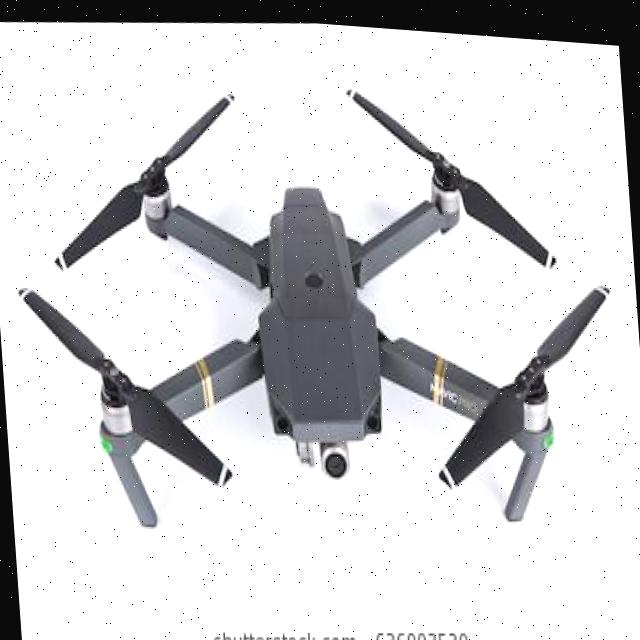drone: (0, 0, 640, 593)
